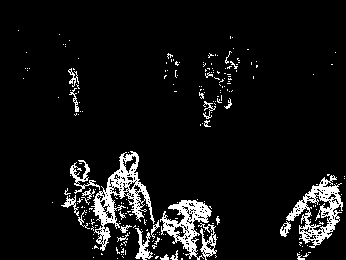person: (104, 150, 152, 260), (61, 160, 112, 251), (199, 65, 223, 130), (64, 65, 83, 118), (161, 49, 182, 94)
